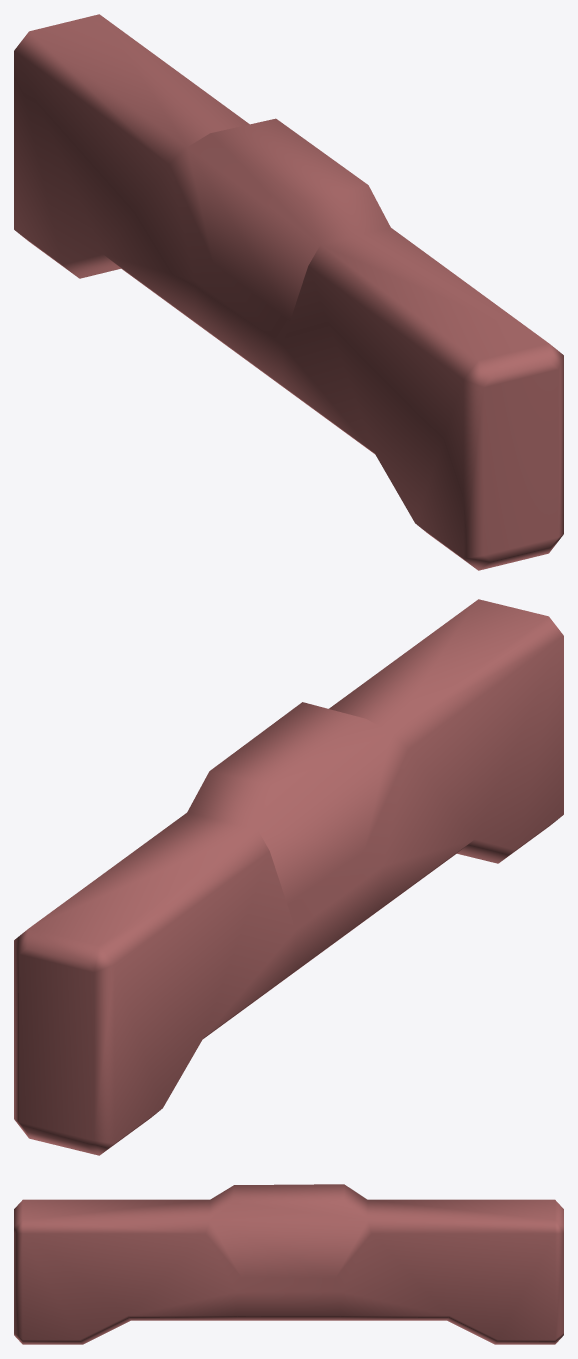
The model's file is PlatformEdge02.fbx.
3 views of the same model, one above another, from view 1: azimuth 30°, elevation 25°; view 2: azimuth 150°, elevation 25°; view 3: azimuth 270°, elevation 25° (orthographic). The views are drawn at different scales.
Parts seen in each view (by area): view 1: PlatformEdge02; view 2: PlatformEdge02; view 3: PlatformEdge02.
Boxes of the visible parts, x1,y1,x2,y2 form: PlatformEdge02: (14, 14, 563, 570); PlatformEdge02: (14, 599, 563, 1155); PlatformEdge02: (14, 1184, 563, 1344).
Bounding box in the file's own units: 50 × 113 × 400.
